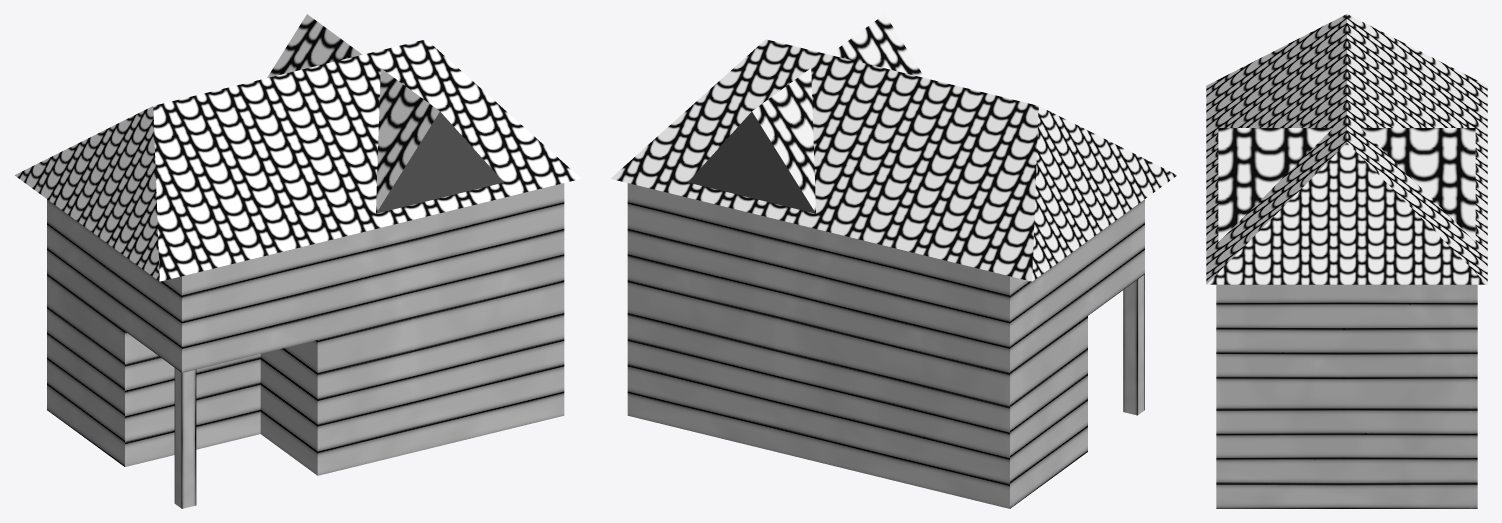
Rendered from gongon_outshop.fbx.
3 renders of one model, left to right at view 1: azimuth 30°, elevation 25°; view 2: azimuth 150°, elevation 25°; view 3: azimuth 270°, elevation 25°, orthographic. The views are drawn at different scales.
Visible parts, largest first — view 1: HouseBody.001, HouseTop.001; view 2: HouseBody.001, HouseTop.001; view 3: HouseTop.001, HouseBody.001.
Part boxes in pixels (x1=…): HouseBody.001: x1=47, y1=183, x2=564, y2=508; HouseTop.001: x1=14, y1=14, x2=581, y2=281; HouseBody.001: x1=627, y1=183, x2=1144, y2=508; HouseTop.001: x1=610, y1=14, x2=1177, y2=281; HouseTop.001: x1=1206, y1=14, x2=1487, y2=284; HouseBody.001: x1=1216, y1=284, x2=1477, y2=508.
Size of the model in its own units: 2168 by 1691 by 1294.
